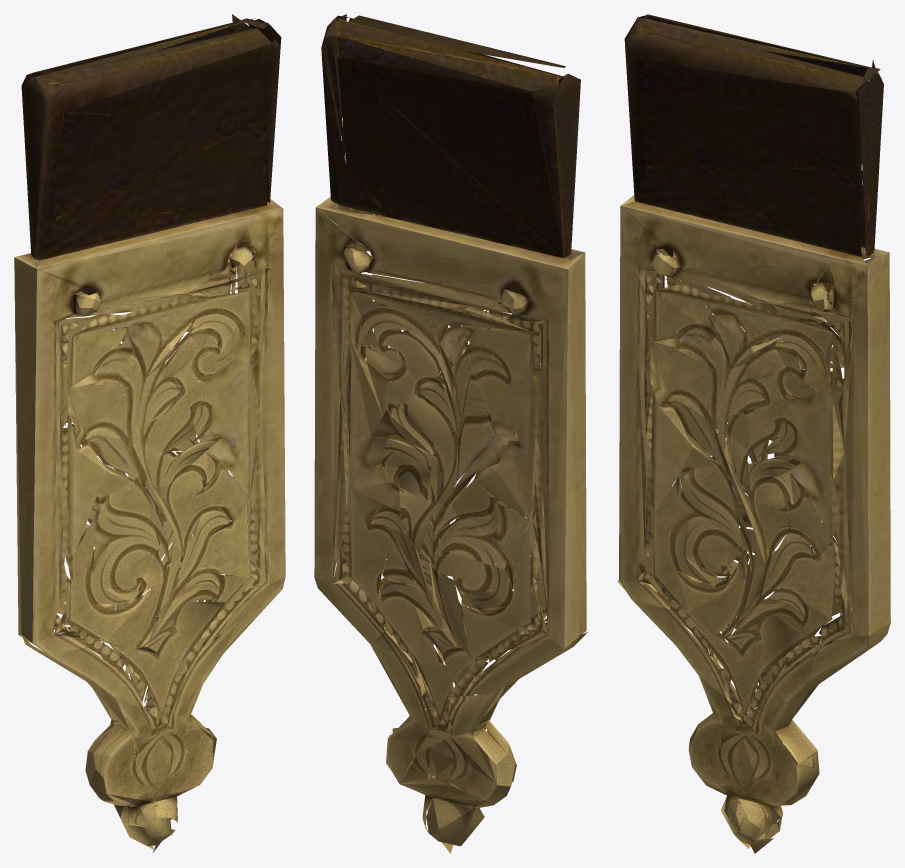
Rendered from strap_end_p3_w1.glb.
3 views of the same model, side by side, from view 1: azimuth 30°, elevation 25°; view 2: azimuth 150°, elevation 25°; view 3: azimuth 330°, elevation 25° (orthographic).
Parts seen in each view (by area): view 1: strap_end_p3_w1; view 2: strap_end_p3_w1; view 3: strap_end_p3_w1.
Part boxes in pixels (x1=…): strap_end_p3_w1: x1=14, y1=14, x2=285, y2=853; strap_end_p3_w1: x1=314, y1=14, x2=587, y2=853; strap_end_p3_w1: x1=617, y1=14, x2=890, y2=853.
Bounding box in the file's own units: 0.0334 × 0.1012 × 0.0082.
Materials: 1 (1 with a texture image).
